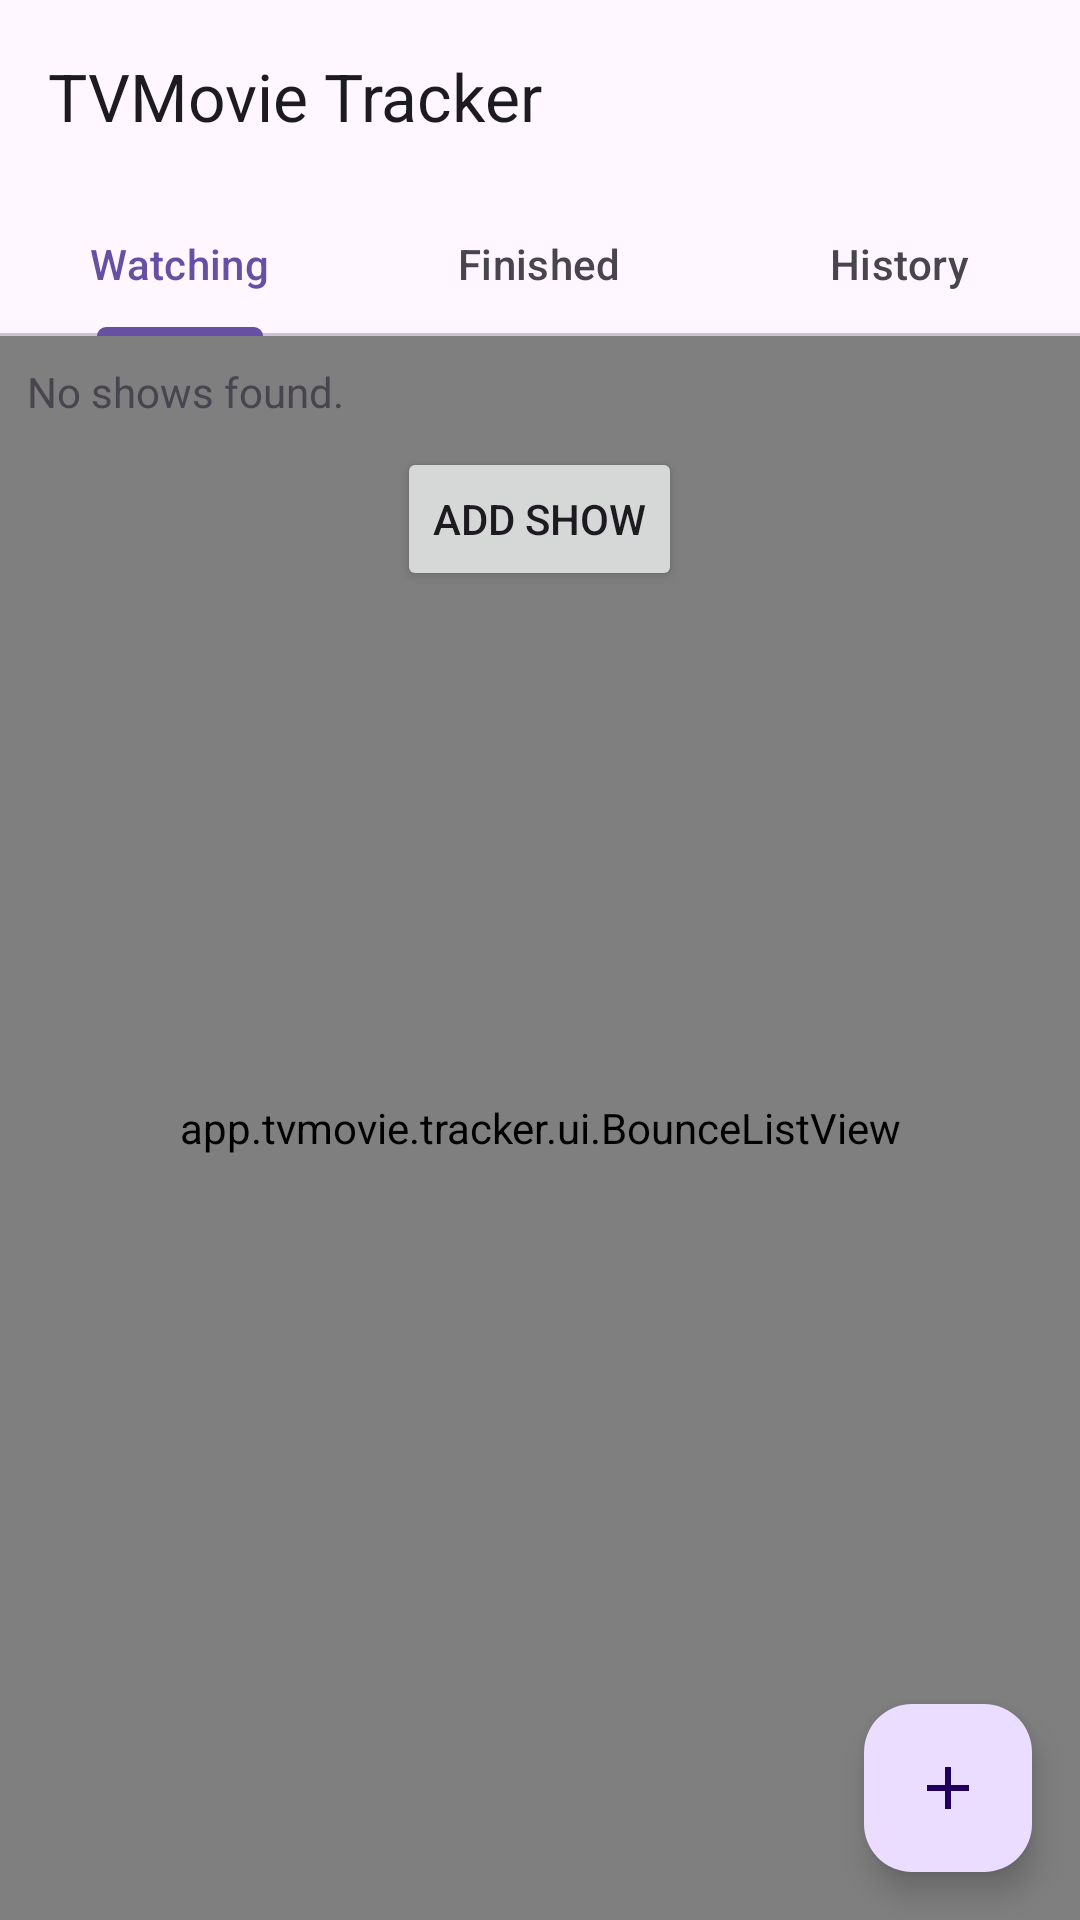

Icons on this 1080px x 1920px Android screen, each with the point to tap as [x,y]:
Add a show: [948,1788]
